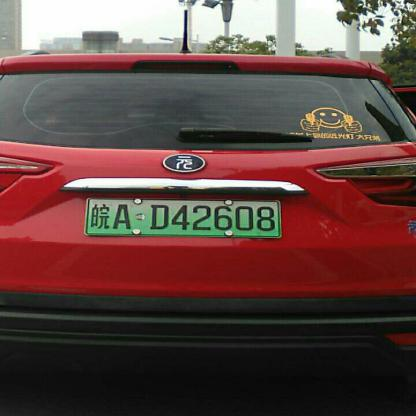lp: (86, 197, 280, 235)
